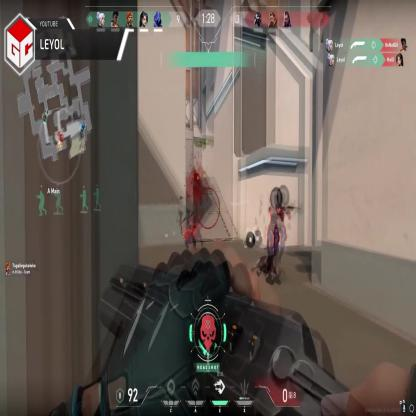enemy: (266, 190, 291, 278)
enemy_head: (272, 190, 285, 211)
